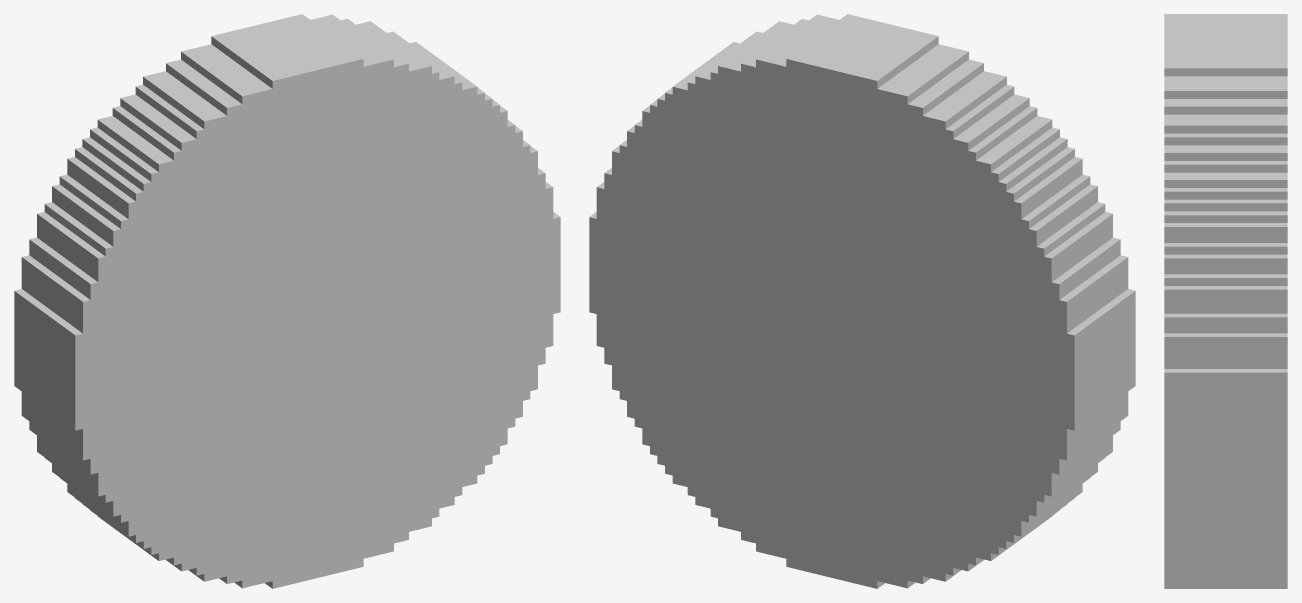
File: robot-2.obj
3 views of the same model, side by side, from view 1: azimuth 30°, elevation 25°; view 2: azimuth 150°, elevation 25°; view 3: azimuth 270°, elevation 25° (orthographic).
Bounding box in the file's own units: 6.4 × 6.4 × 1.4.
Materials: 1 (1 with a texture image).
